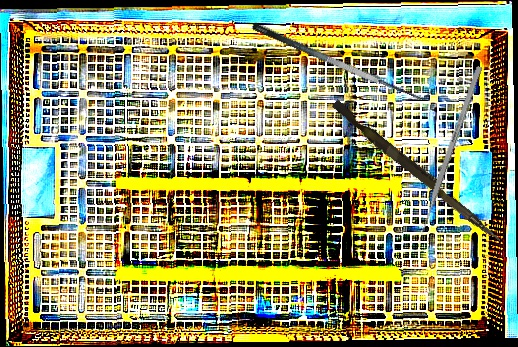Pusher: (328, 99, 507, 244), (415, 65, 483, 244)
Spatula Surgical: (250, 7, 435, 111)
